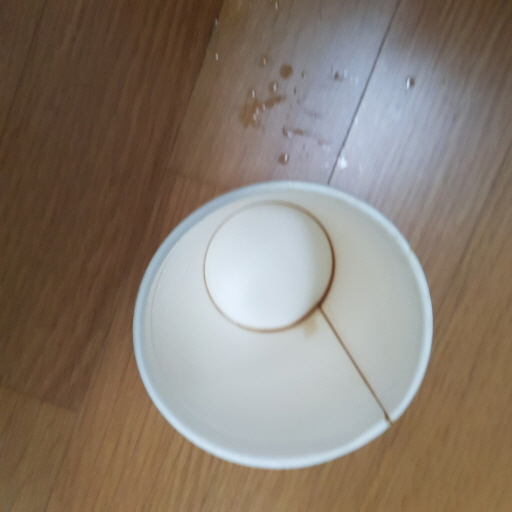Paper_1: (131, 174, 441, 475)
